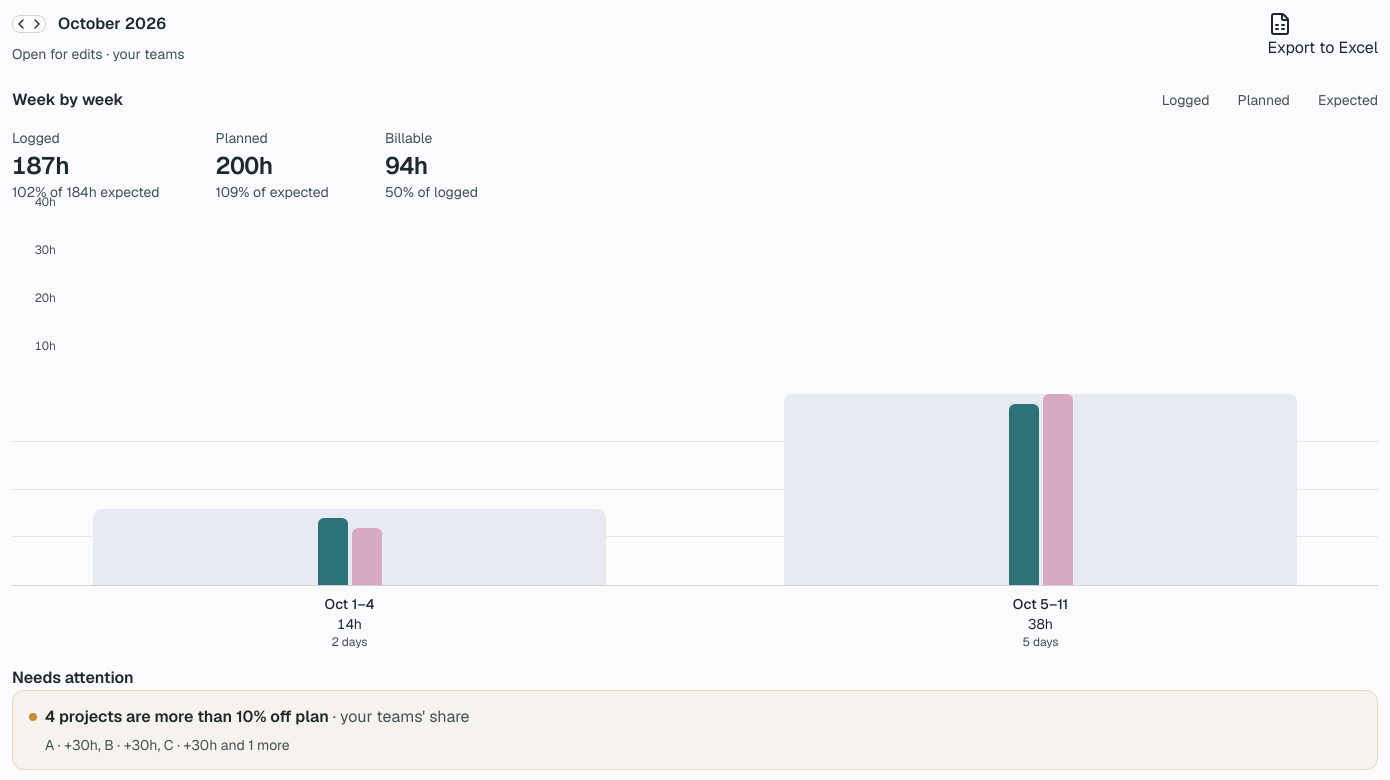
ReportsView › panels › names the first three and opens the rest on request
expect the button "D ·" is not shown: met
Click the button "and 1 more": point(255, 745) [221,735,290,755]
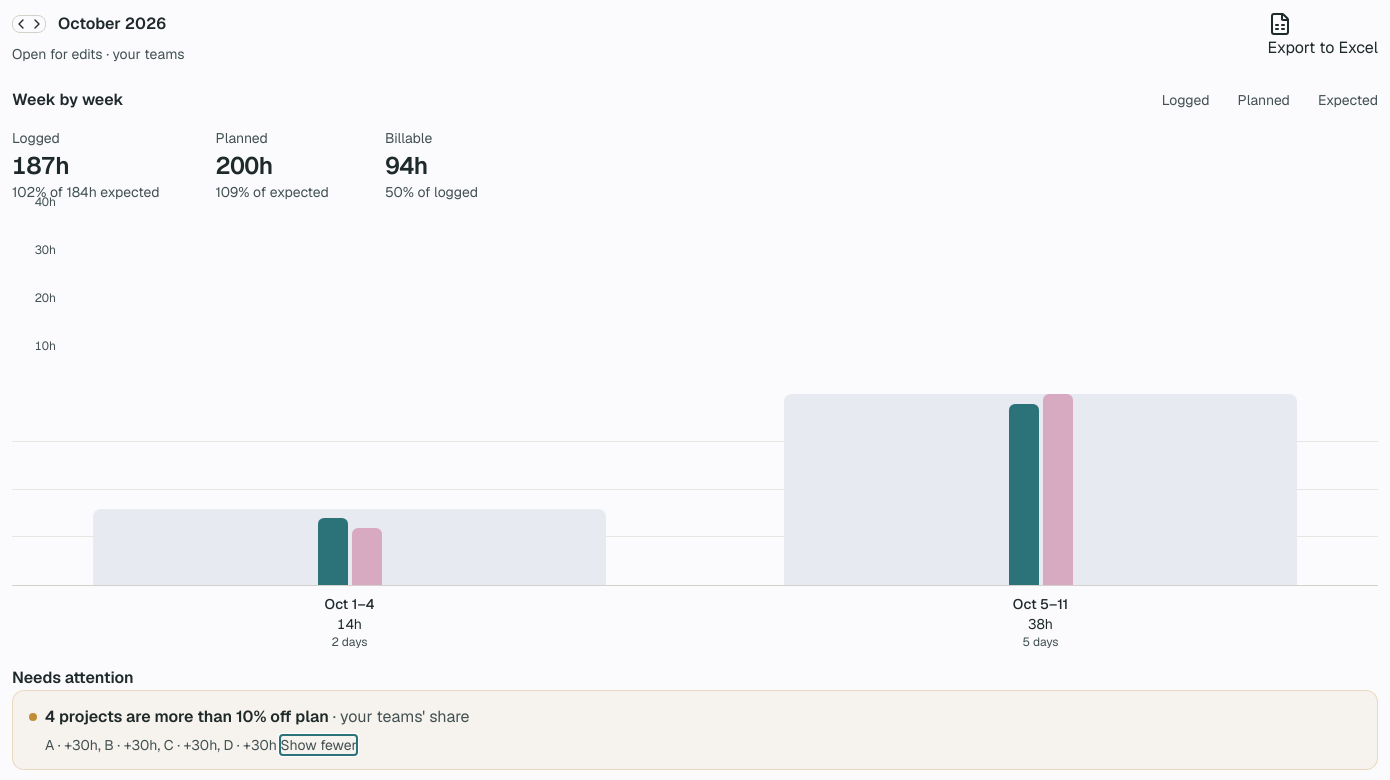
expect the button "D · +30h" is shown: met, box [224,735,277,755]
Click the button "Show fewer": point(319, 745) [280,735,357,755]
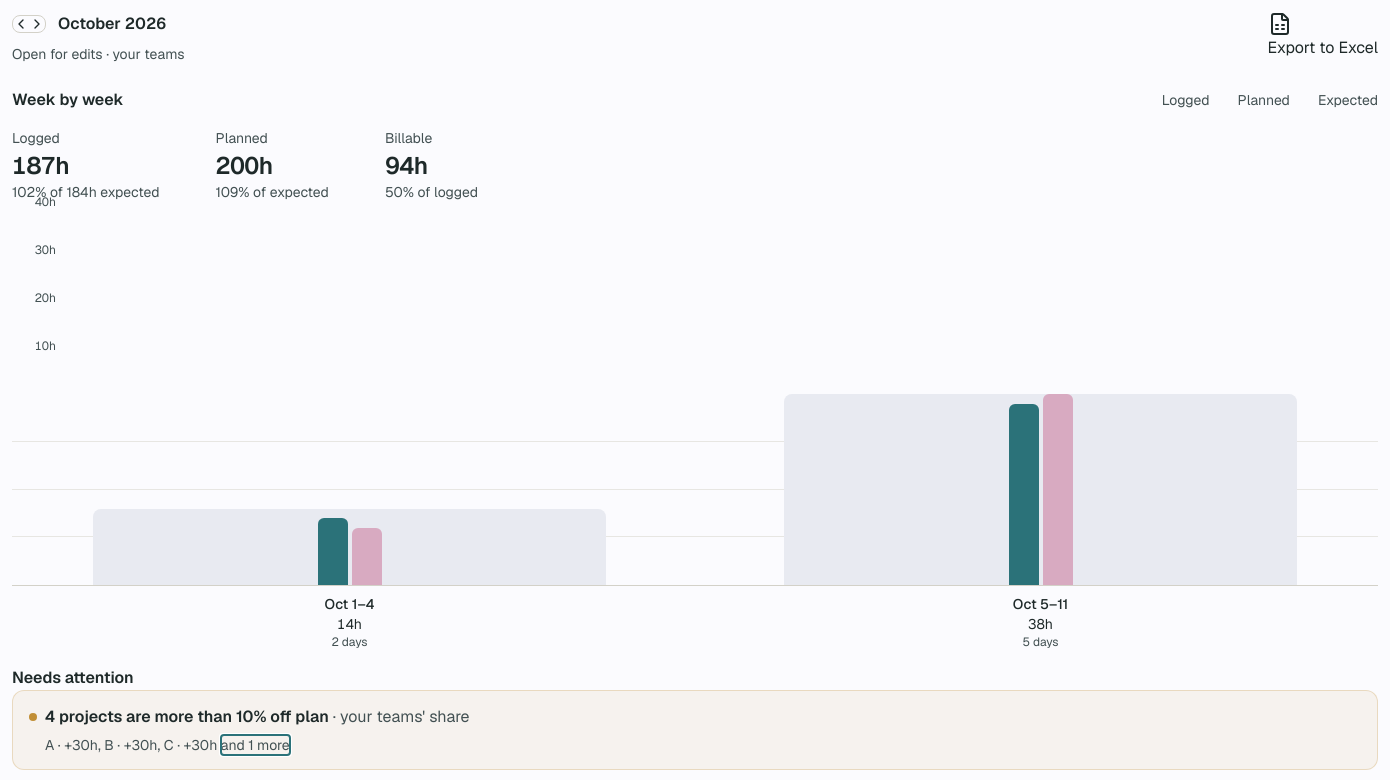
expect the button "D ·" is gone: met
